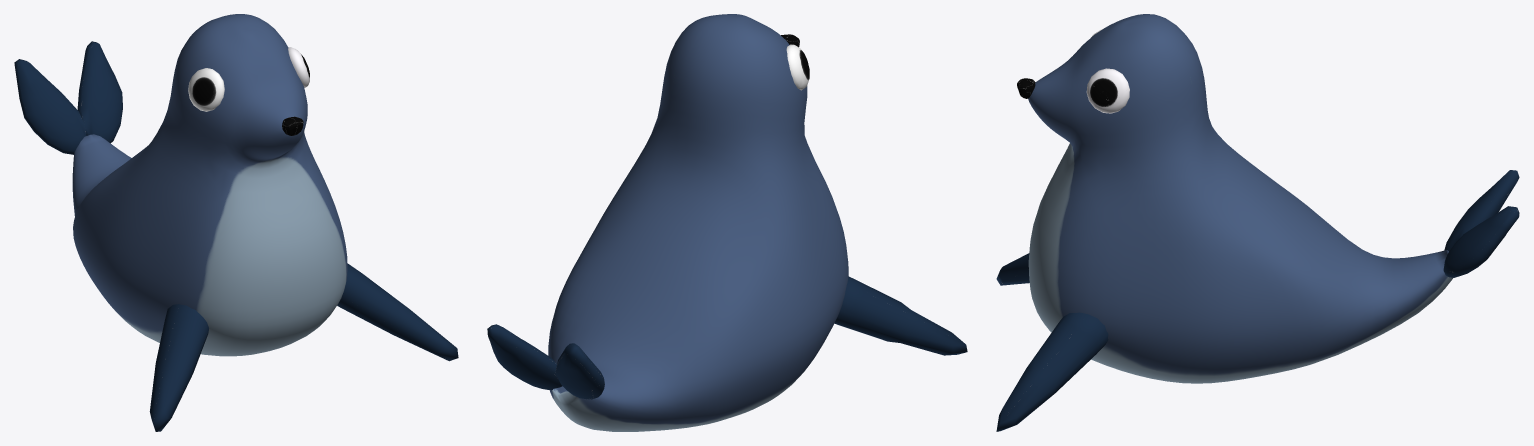
The model's file is seal.fbx.
3 views of the same model, side by side, from view 1: azimuth 30°, elevation 25°; view 2: azimuth 150°, elevation 25°; view 3: azimuth 270°, elevation 25° (orthographic). The views are drawn at different scales.
Parts seen in each view (by area): view 1: Roundcube.001, Roundcube.002, Roundcube.003, Roundcube.006, Roundcube.005; view 2: Roundcube.001, Roundcube.002, Roundcube.003, Roundcube.006; view 3: Roundcube.001, Roundcube.002, Roundcube.003, Roundcube.005.
Boxes of the visible parts, <box> form: Roundcube.001: <box>72,14,347,356</box>; Roundcube.002: <box>149,263,458,431</box>; Roundcube.003: <box>14,41,122,154</box>; Roundcube.006: <box>188,68,224,111</box>; Roundcube.005: <box>288,47,309,87</box>; Roundcube.001: <box>548,14,848,431</box>; Roundcube.002: <box>834,276,967,355</box>; Roundcube.003: <box>487,324,604,399</box>; Roundcube.006: <box>786,44,809,90</box>; Roundcube.001: <box>1028,14,1453,383</box>; Roundcube.002: <box>996,253,1108,431</box>; Roundcube.003: <box>1443,170,1519,277</box>; Roundcube.005: <box>1086,68,1129,113</box>.
Size of the model in its own units: 194 by 203 by 278.
Materials: 6 (6 with a texture image).
